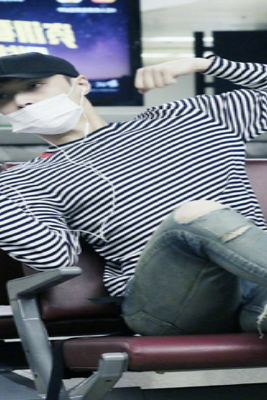mask_weared_incorrect: (1, 77, 78, 133)
